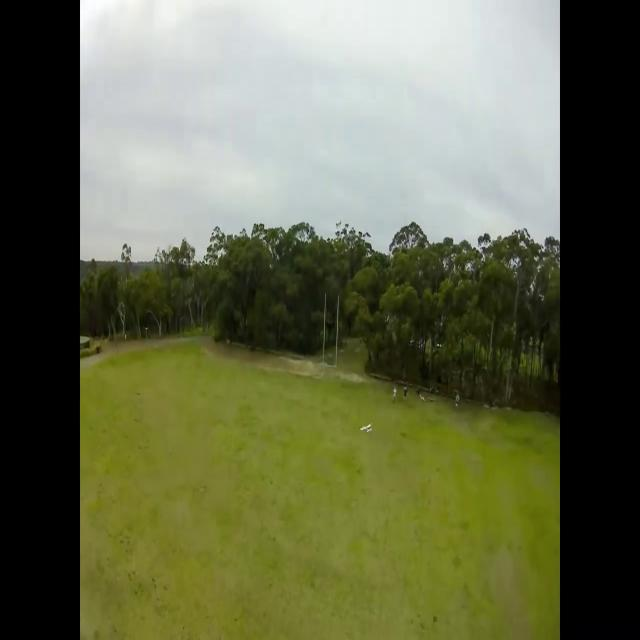iha: (364, 426, 370, 430)
